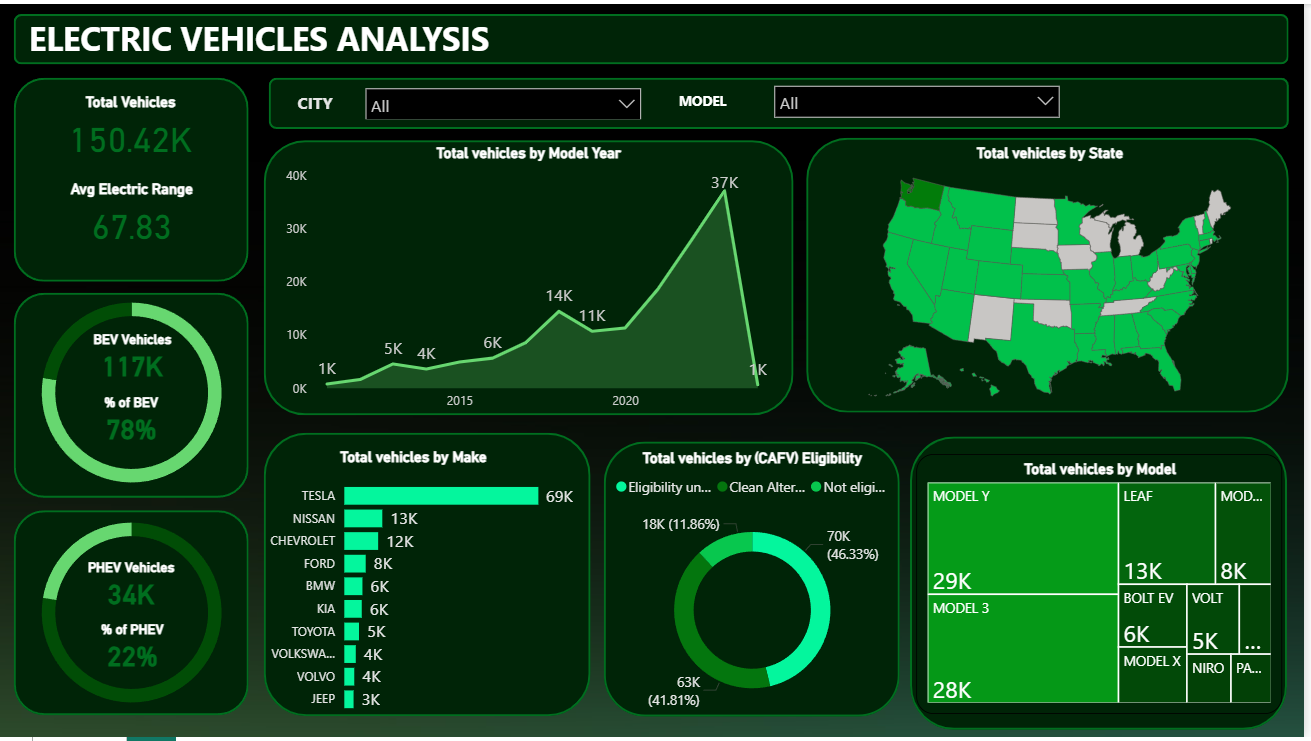

The dashboard page shown, as its layout file describes it:
{"tool":"powerbi","page":{"name":"Page 1","canvas":[1280,720],"ordinal":0},"visuals":[{"type":"shape","box":[13.7,9.6,1251.5,49.4],"z":0},{"type":"textbox","box":[23.3,6.9,470.7,54.9],"z":1000},{"type":"shape","box":[13.7,72.7,230.5,200.3],"z":2000},{"type":"card","title":"Total Vehicles","fields":{"Values":["Electric_Vehicle_Population_Data.Total vehicles"]},"box":[24.5,87.1,207.4,69.9],"z":3000},{"type":"card","title":"Avg Electric Range","fields":{"Values":["Avg(Electric_Vehicle_Population_Data.Electric Range)"]},"box":[33.1,173,192.6,69.9],"z":4000},{"type":"shape","box":[13.5,283.4,230.7,201.2],"z":5000},{"type":"shape","box":[13.5,496.9,230.7,201.2],"z":6000},{"type":"donutChart","fields":{"Category":["Electric_Vehicle_Population_Data.Electric Vehicle Type"],"Y":["Electric_Vehicle_Population_Data.Total vehicles"]},"box":[0,266.3,258.9,230.7],"z":7000},{"type":"card","title":"BEV Vehicles","fields":{"Values":["Electric_Vehicle_Population_Data.BEV Vehicles"]},"box":[58.9,321.5,142.3,51.5],"z":8000},{"type":"card","title":"% of BEV","fields":{"Values":["Electric_Vehicle_Population_Data.% of BEV"]},"box":[57.7,384.1,142.3,51.5],"z":9000},{"type":"card","title":"PHEV Vehicles","fields":{"Values":["Electric_Vehicle_Population_Data.PHEV Vehicles"]},"box":[57.7,546,142.3,51.5],"z":10000},{"type":"card","title":"% of PHEV","fields":{"Values":["Electric_Vehicle_Population_Data.% of PHEV"]},"box":[58.9,606.1,142.3,51.5],"z":11000},{"type":"donutChart","fields":{"Category":["Electric_Vehicle_Population_Data.Electric Vehicle Type"],"Y":["Electric_Vehicle_Population_Data.Total vehicles"]},"box":[0,482.2,258.9,230.7],"z":12000},{"type":"shape","box":[263.8,72.4,1001.2,50.3],"z":13000},{"type":"shape","box":[258.9,133.7,520,270],"z":14000},{"type":"areaChart","fields":{"Category":["Electric_Vehicle_Population_Data.Model Year"],"Y":["Electric_Vehicle_Population_Data.Total vehicles"]},"box":[276.1,137.4,485.9,269.9],"z":15000},{"type":"shape","box":[791.4,131.3,473.6,269.9],"z":16000},{"type":"shape","box":[259.1,420.8,320.8,278.3],"z":17000},{"type":"barChart","fields":{"Category":["Electric_Vehicle_Population_Data.Make"],"Y":["Electric_Vehicle_Population_Data.Total vehicles"]},"box":[244,435.9,323.5,270],"z":18000},{"type":"shape","box":[592.2,429,290.6,270],"z":19000},{"type":"donutChart","title":"Total vehicles by (CAFV) Eligibility","fields":{"Category":["Electric_Vehicle_Population_Data.Clean Alternative Fuel Vehicle (CAFV) Eligibility"],"Y":["Electric_Vehicle_Population_Data.Total vehicles"]},"box":[592.2,437.3,292,270],"z":20000},{"type":"shape","box":[893.7,424.9,370.1,287.9],"z":21000},{"type":"treemap","fields":{"Values":["Electric_Vehicle_Population_Data.Total vehicles"],"Group":["Electric_Vehicle_Population_Data.Model"]},"box":[899.4,441.7,359.5,255.2],"z":22000},{"type":"shapeMap","fields":{"Category":["Electric_Vehicle_Population_Data.State"],"Value":["Electric_Vehicle_Population_Data.Total vehicles"]},"box":[801.9,137.1,456.5,264.6],"z":23000},{"type":"slicer","fields":{"Values":["Electric_Vehicle_Population_Data.City"]},"box":[348.5,72.4,290.8,40.5],"z":24000},{"type":"textbox","box":[287.1,81,61.4,34.4],"z":25000},{"type":"textbox","box":[661.4,81,76.1,28.2],"z":26000},{"type":"slicer","fields":{"Values":["Electric_Vehicle_Population_Data.Model"]},"box":[749.7,69.9,300.6,42.9],"z":27000}]}

Visuals, with their boxes in screenshot pixels (x1, y1, x2, y2), scaled from the page's 1280x720 canvas onto the 1311x741 screenshot:
shape: (left=14, top=10, right=1296, bottom=61)
textbox: (left=24, top=7, right=506, bottom=64)
shape: (left=14, top=75, right=250, bottom=281)
"Total Vehicles" card: (left=25, top=90, right=238, bottom=162)
"Avg Electric Range" card: (left=34, top=178, right=231, bottom=250)
shape: (left=14, top=292, right=250, bottom=499)
shape: (left=14, top=511, right=250, bottom=718)
donutChart - Electric_Vehicle_Population_Data.Electric Vehicle Type x Electric_Vehicle_Population_Data.Total vehicles: (left=0, top=274, right=265, bottom=511)
"BEV Vehicles" card: (left=60, top=331, right=206, bottom=384)
"% of BEV" card: (left=59, top=395, right=205, bottom=448)
"PHEV Vehicles" card: (left=59, top=562, right=205, bottom=615)
"% of PHEV" card: (left=60, top=624, right=206, bottom=677)
donutChart - Electric_Vehicle_Population_Data.Electric Vehicle Type x Electric_Vehicle_Population_Data.Total vehicles: (left=0, top=496, right=265, bottom=734)
shape: (left=270, top=75, right=1296, bottom=126)
shape: (left=265, top=138, right=798, bottom=415)
areaChart - Electric_Vehicle_Population_Data.Model Year x Electric_Vehicle_Population_Data.Total vehicles: (left=283, top=141, right=780, bottom=419)
shape: (left=811, top=135, right=1296, bottom=413)
shape: (left=265, top=433, right=594, bottom=719)
barChart - Electric_Vehicle_Population_Data.Make x Electric_Vehicle_Population_Data.Total vehicles: (left=250, top=449, right=581, bottom=726)
shape: (left=607, top=442, right=904, bottom=719)
"Total vehicles by (CAFV) Eligibility" donutChart: (left=607, top=450, right=906, bottom=728)
shape: (left=915, top=437, right=1294, bottom=734)
treemap - Electric_Vehicle_Population_Data.Total vehicles x Electric_Vehicle_Population_Data.Model: (left=921, top=455, right=1289, bottom=717)
shapeMap - Electric_Vehicle_Population_Data.State x Electric_Vehicle_Population_Data.Total vehicles: (left=821, top=141, right=1289, bottom=413)
slicer - Electric_Vehicle_Population_Data.City: (left=357, top=75, right=655, bottom=116)
textbox: (left=294, top=83, right=357, bottom=119)
textbox: (left=677, top=83, right=755, bottom=112)
slicer - Electric_Vehicle_Population_Data.Model: (left=768, top=72, right=1076, bottom=116)
